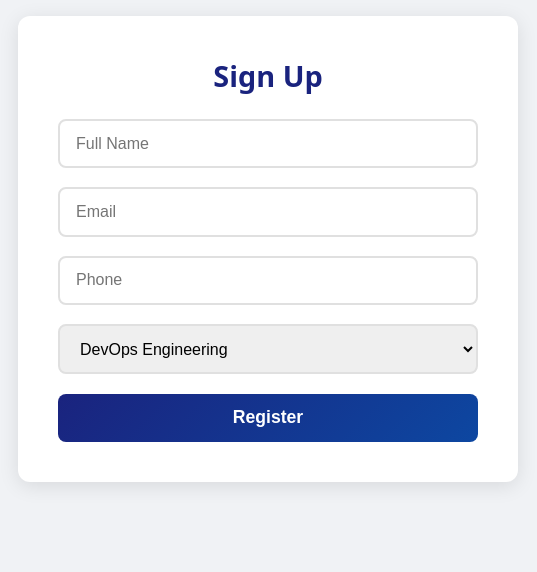
Test: Signup Page › shows success message on successful registration
Type "John Doe" into the field with placeholder "Full Name" at (268, 144), box [58,119,478,168]
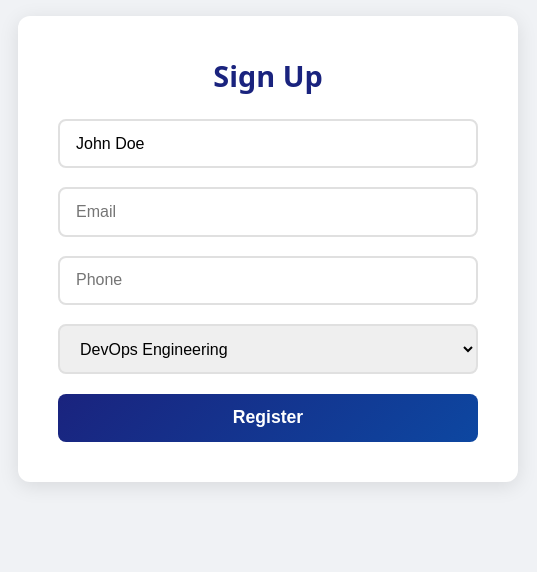
Type "john@example.com" into the field with placeholder "Email" at (268, 212), box [58,187,478,237]
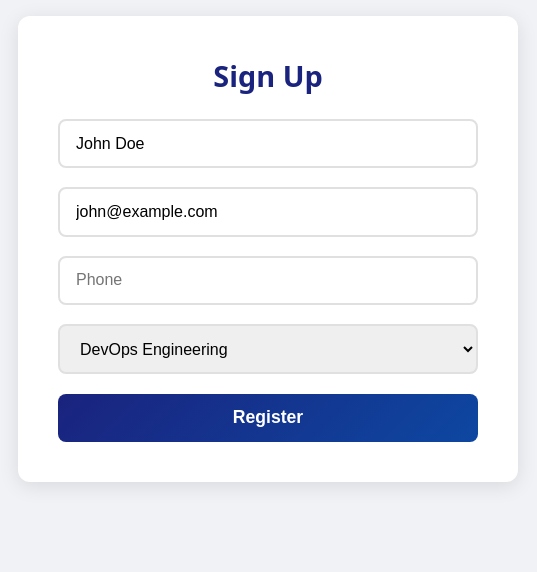
Type "1234567890" into the field with placeholder "Phone" at (268, 280), box [58,256,478,305]
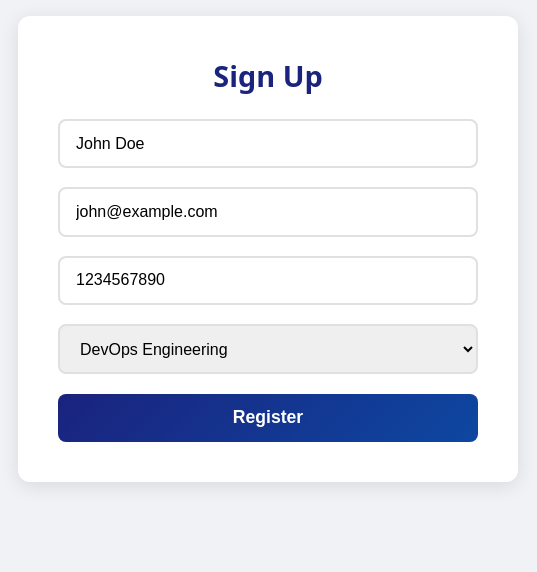
Click the button "Register" at (268, 418), box [58,394,478,442]
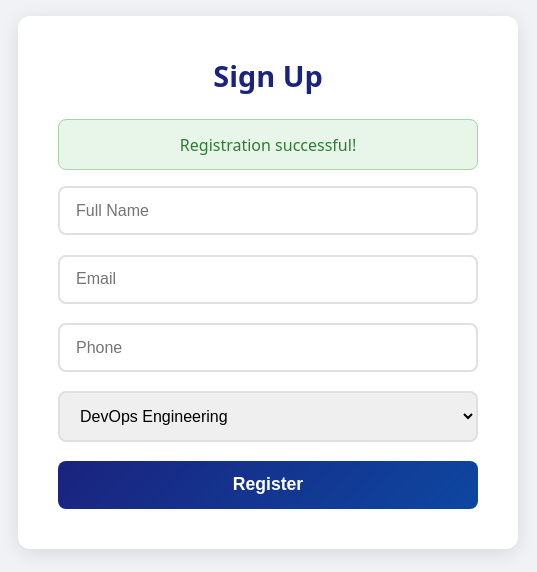
Expected: the text "Registration successful!" is shown, [180,134,356,156]
